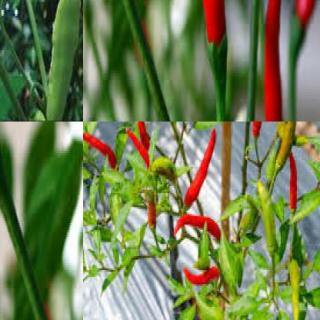green_chilli: (46, 0, 82, 121), (255, 182, 281, 256), (290, 251, 308, 319)
